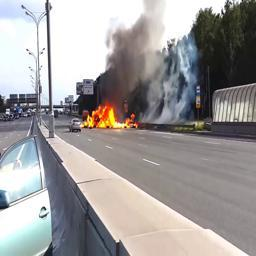fire: (83, 101, 138, 129)
